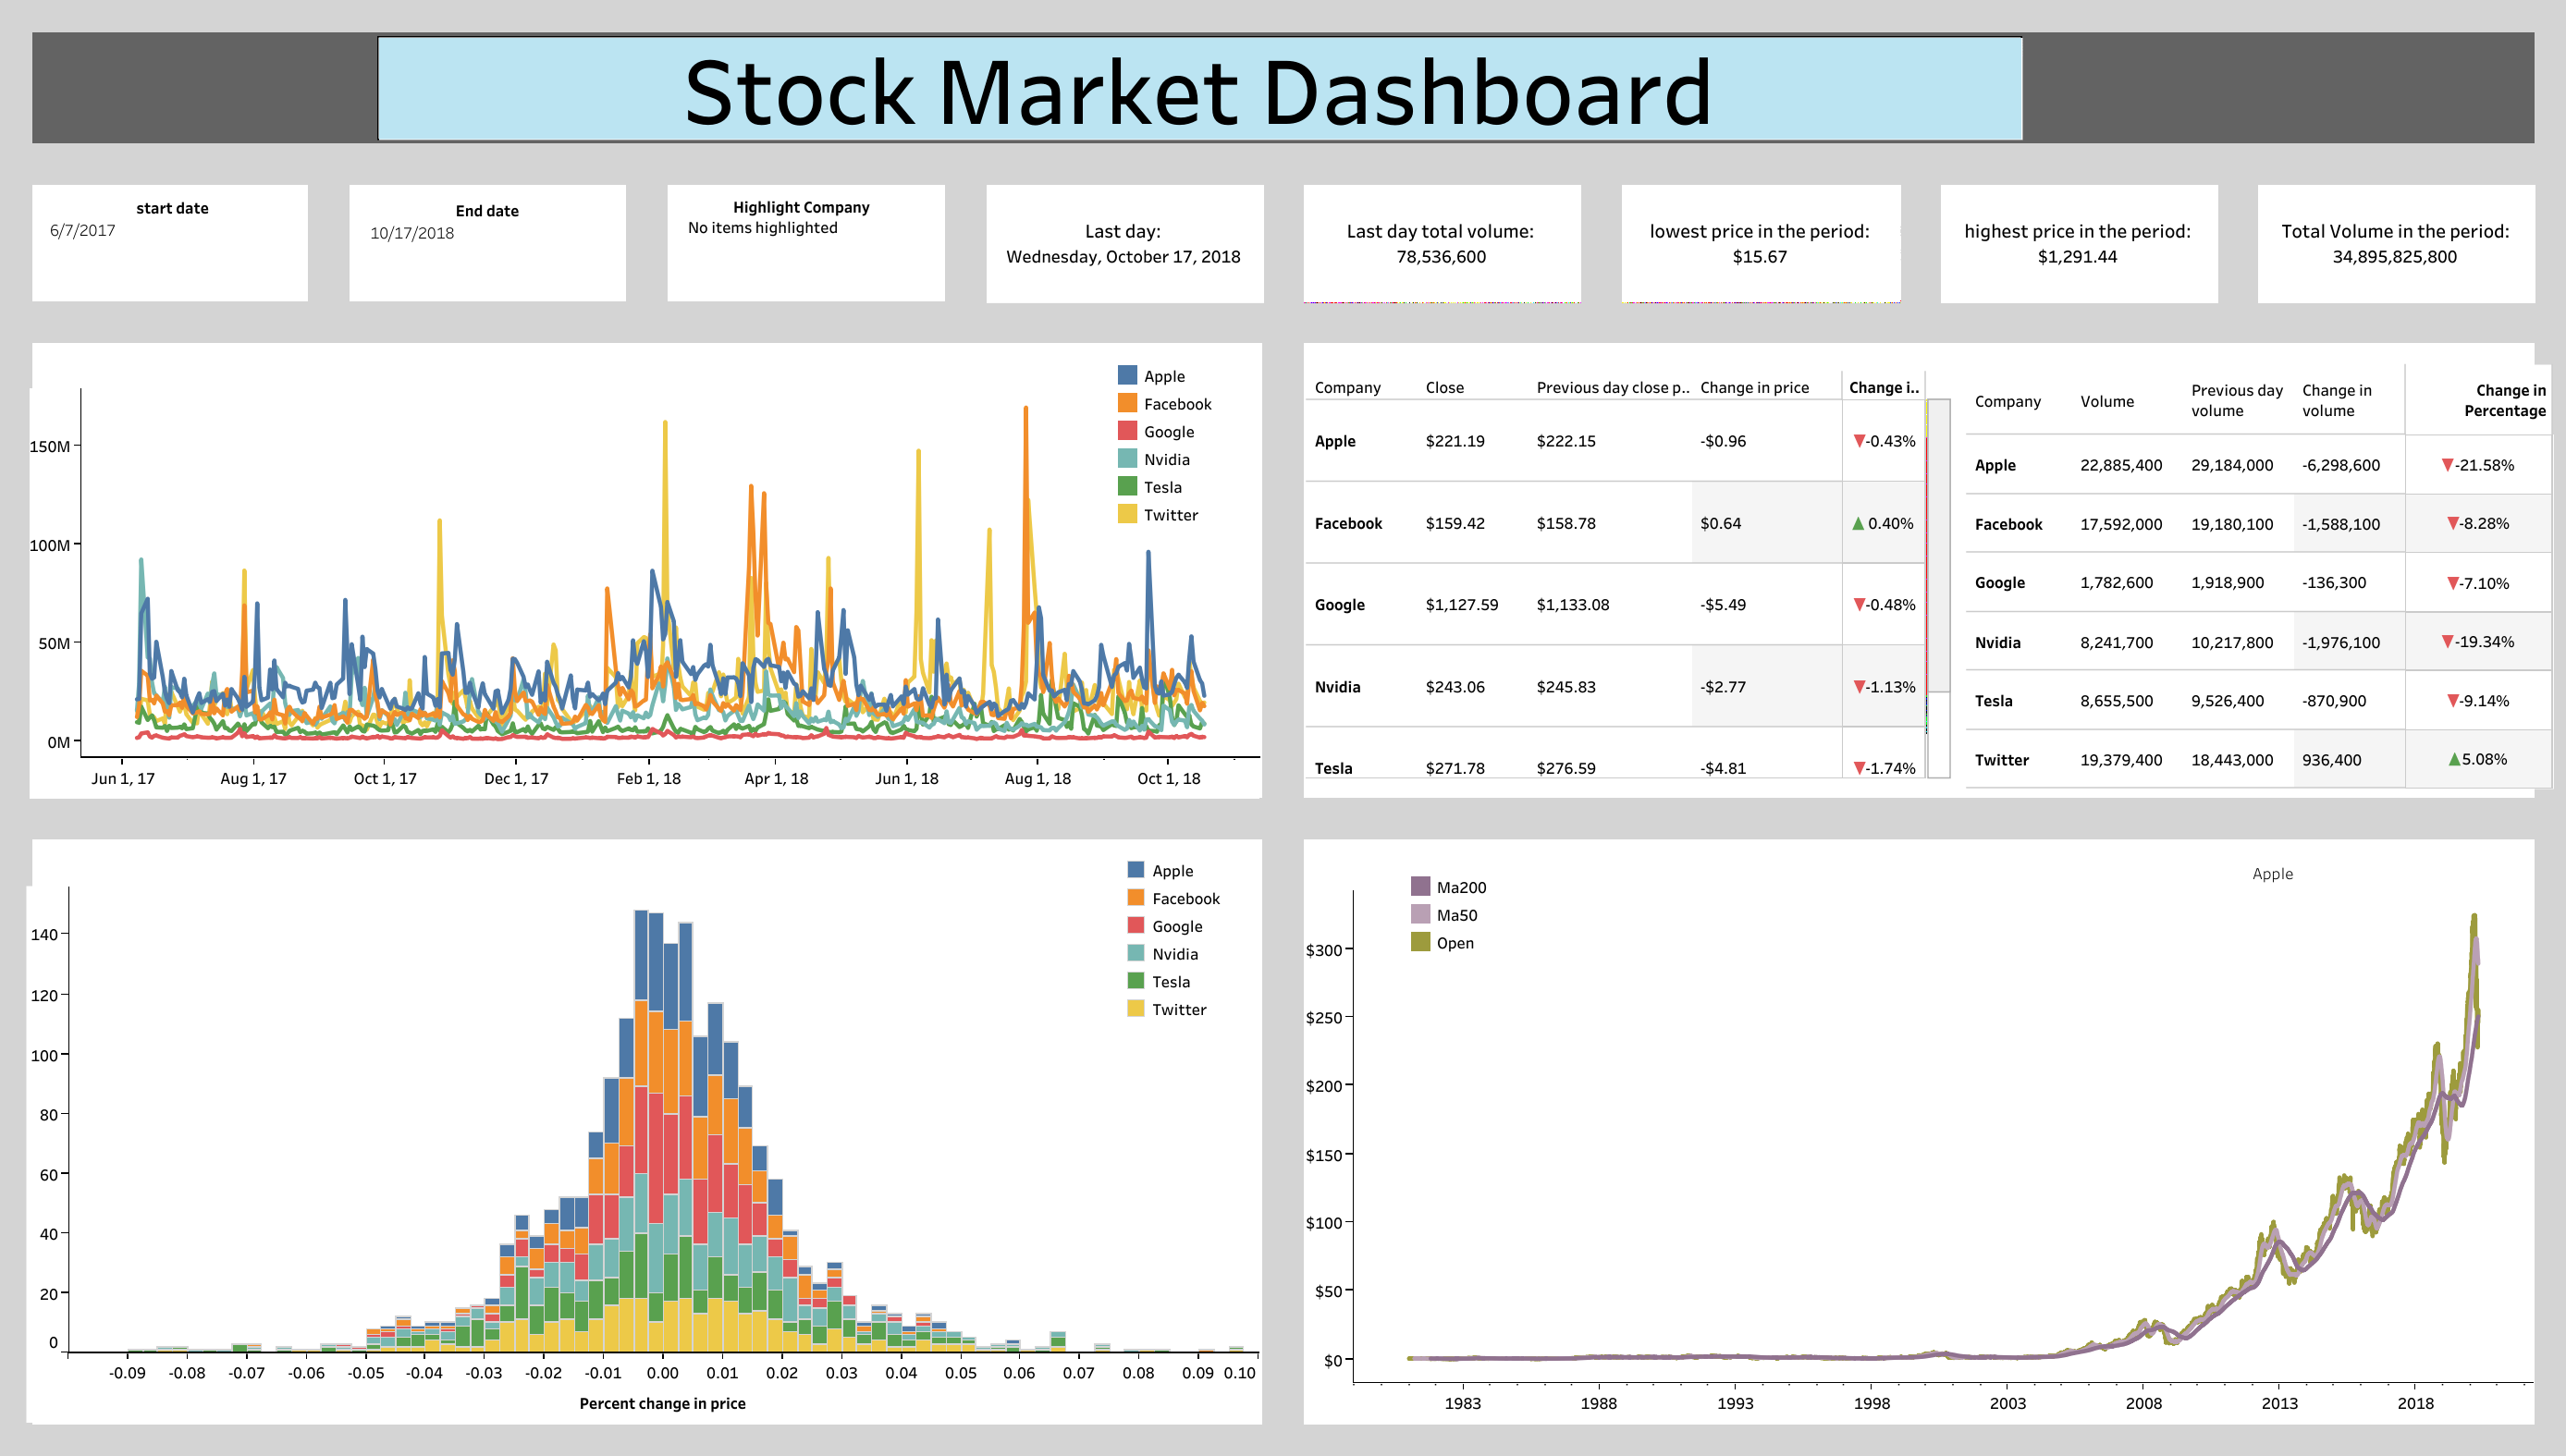

This screenshot's page, from the dashboard's own definition file:
{"tool":"tableau","page":{"name":"Dashboard 1","canvas":[1850,1050],"ordinal":0},"visuals":[{"type":"blank","box":[8,8,1834,110]},{"type":"worksheet","title":"Title","mark":"Automatic","box":[272,26,1186,75]},{"type":"blank","box":[8,118,229.3,114]},{"type":"blank","box":[237.2,118,229.3,114]},{"type":"blank","box":[466.5,118,229.3,114]},{"type":"worksheet","title":"Last day","mark":"Automatic","box":[695.7,118,229.3,114]},{"type":"worksheet","title":"Last day total volume","mark":"Automatic","box":[925,118,229.3,114]},{"type":"worksheet","title":"lowest price in the period","mark":"Automatic","box":[1154.3,118,229.3,114]},{"type":"worksheet","title":"highest price in the period","mark":"Automatic","box":[1383.5,118,229.3,114]},{"type":"worksheet","title":"Total Volume in the period","mark":"Automatic","box":[1612.8,118,229.3,114]},{"type":"highlighter","title":"Volume","param":"[federated.0mple4y0d4lpd61dkl7z8127m6c4].[none:Table Name:nk]","box":[494,140,168,68]},{"type":"parameter","param":"[Parameters].[Parameter 1]","box":[34,141,181,70]},{"type":"parameter","param":"[Parameters].[Parameter 2]","box":[265,143,173,65]},{"type":"blank","box":[8,232,917,358]},{"type":"blank","box":[925,232,917,358]},{"type":"worksheet","title":"Volume","mark":"Automatic","rows":["Volume"],"cols":["Date"],"box":[21,243,887,333]},{"type":"legend","title":"Volume","param":"[federated.0mple4y0d4lpd61dkl7z8127m6c4].[none:Table Name:nk]","box":[803,260,94,136]},{"type":"worksheet","title":"Detailed Volume Table","mark":"Automatic","rows":["Table Name","Volume","Previous day volume","Change in volume"],"box":[1418,263,423,306]},{"type":"worksheet","title":"Detailed price table","mark":"Automatic","rows":["Table Name","Close","Previous day close price","Change in price"],"box":[942,268,470,294]},{"type":"blank","box":[8,590,917,452]},{"type":"blank","box":[925,590,917,452]},{"type":"worksheet","title":"Price percent change","mark":"Automatic","rows":["Percent change in price"],"cols":["Percent change in price (bin)"],"box":[19,602,888,424]},{"type":"worksheet","title":"Moving Average - open price","mark":"Automatic","cols":["Date"],"box":[941,605,885,422]},{"type":"legend","title":"Price percent change","param":"[federated.0mple4y0d4lpd61dkl7z8127m6c4].[none:Table Name:nk]","box":[809,617,96,125]},{"type":"filter","title":"Moving Average - open price","param":"[federated.0mple4y0d4lpd61dkl7z8127m6c4].[none:Table Name:nk]","box":[1622,621,160,31]},{"type":"legend","title":"Moving Average - open price","param":"[federated.0mple4y0d4lpd61dkl7z8127m6c4].[:Measure Names]","box":[1014,629,85,76]}]}

Visuals, with their boxes in screenshot pixels (x1, y1, x2, y2), scaled from the page's 1850x1050 canvas onto the 2566x1456 screenshot:
blank: Rect(11, 11, 2555, 164)
"Title" worksheet: Rect(377, 36, 2022, 141)
blank: Rect(11, 164, 329, 322)
blank: Rect(329, 164, 647, 322)
blank: Rect(647, 164, 965, 322)
"Last day" worksheet: Rect(965, 164, 1283, 322)
"Last day total volume" worksheet: Rect(1283, 164, 1601, 322)
"lowest price in the period" worksheet: Rect(1601, 164, 1919, 322)
"highest price in the period" worksheet: Rect(1919, 164, 2237, 322)
"Total Volume in the period" worksheet: Rect(2237, 164, 2555, 322)
"Volume" highlighter: Rect(685, 194, 918, 288)
parameter: Rect(47, 196, 298, 292)
parameter: Rect(368, 198, 608, 288)
blank: Rect(11, 322, 1283, 818)
blank: Rect(1283, 322, 2555, 818)
"Volume" worksheet: Rect(30, 336, 1259, 799)
"Volume" legend: Rect(1113, 361, 1245, 549)
"Detailed Volume Table" worksheet: Rect(1967, 364, 2554, 789)
"Detailed price table" worksheet: Rect(1307, 372, 1958, 779)
blank: Rect(11, 818, 1283, 1445)
blank: Rect(1283, 818, 2555, 1445)
"Price percent change" worksheet: Rect(26, 835, 1258, 1423)
"Moving Average - open price" worksheet: Rect(1306, 839, 2533, 1424)
"Price percent change" legend: Rect(1123, 856, 1256, 1029)
"Moving Average - open price" filter: Rect(2250, 862, 2472, 904)
"Moving Average - open price" legend: Rect(1406, 873, 1524, 978)
